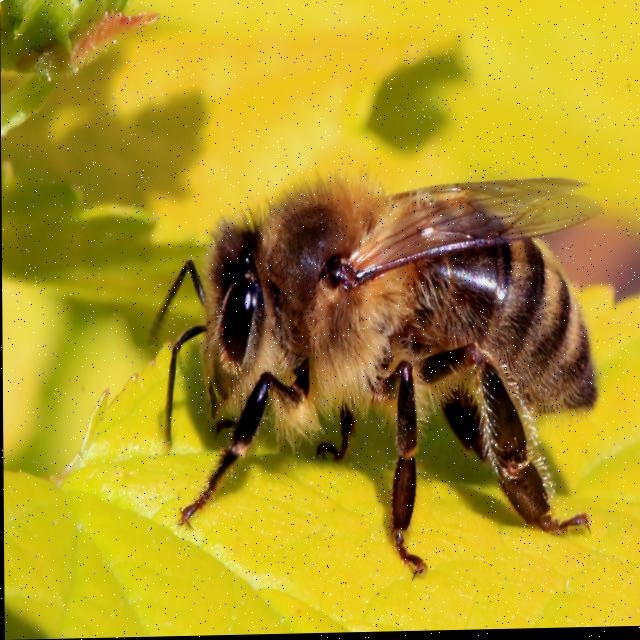Apis-mellifera-scutellata: (128, 138, 627, 601)
